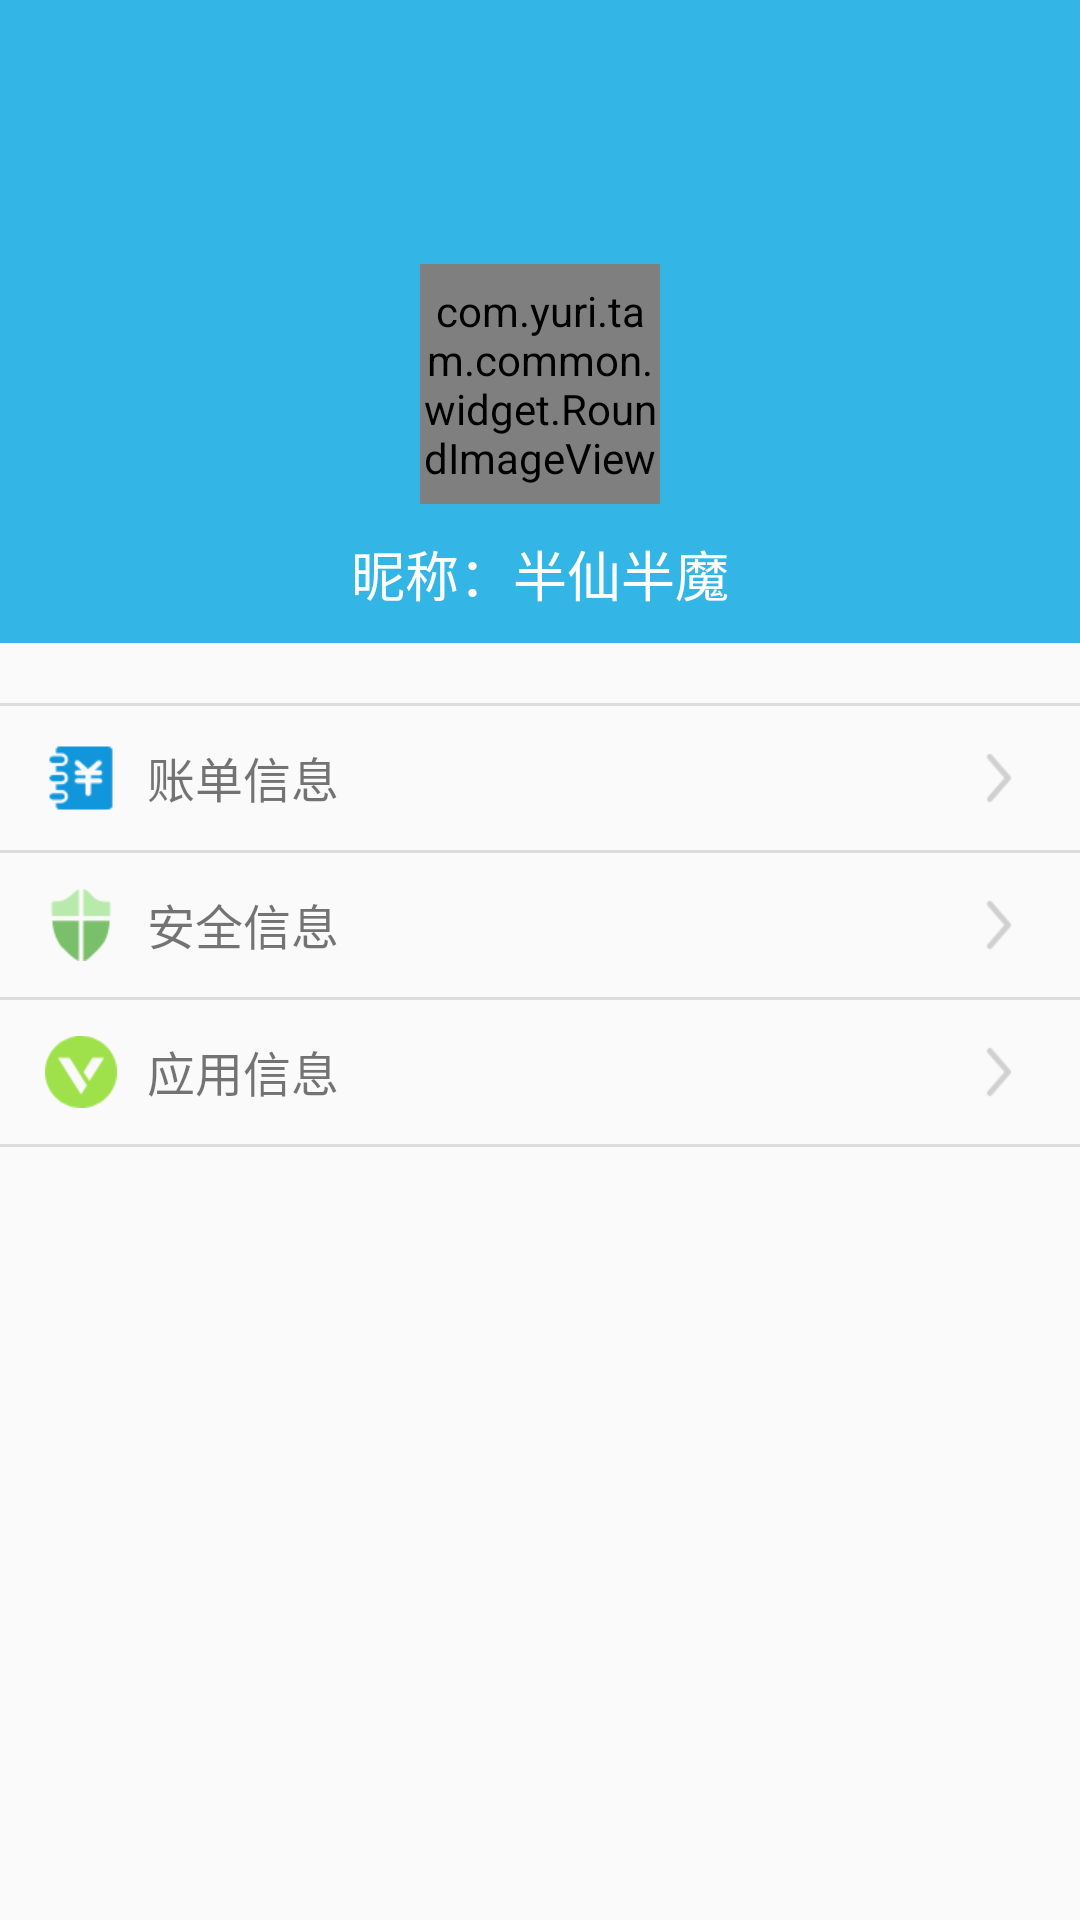

Screen size 1080px x 1920px. Icon name, then its box in pixels as (x1, y1, x2, y2):
payment: (49, 746, 113, 810)
verison info: (45, 1036, 117, 1108)
